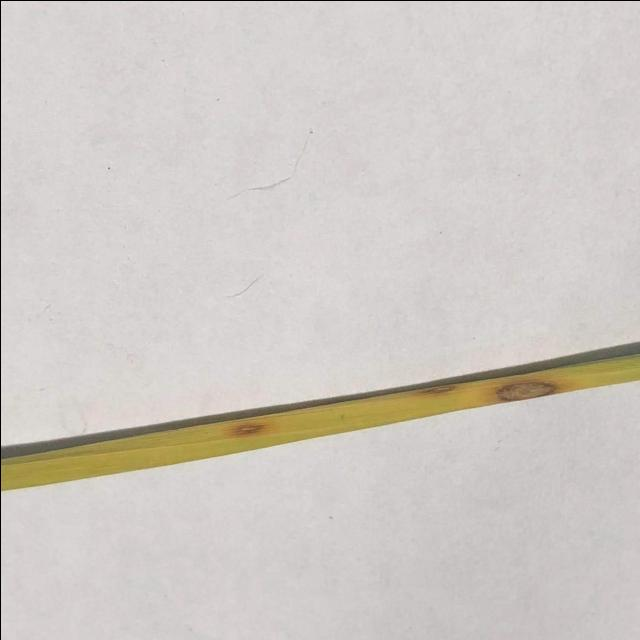Leaf blast: (0, 254, 640, 536)
